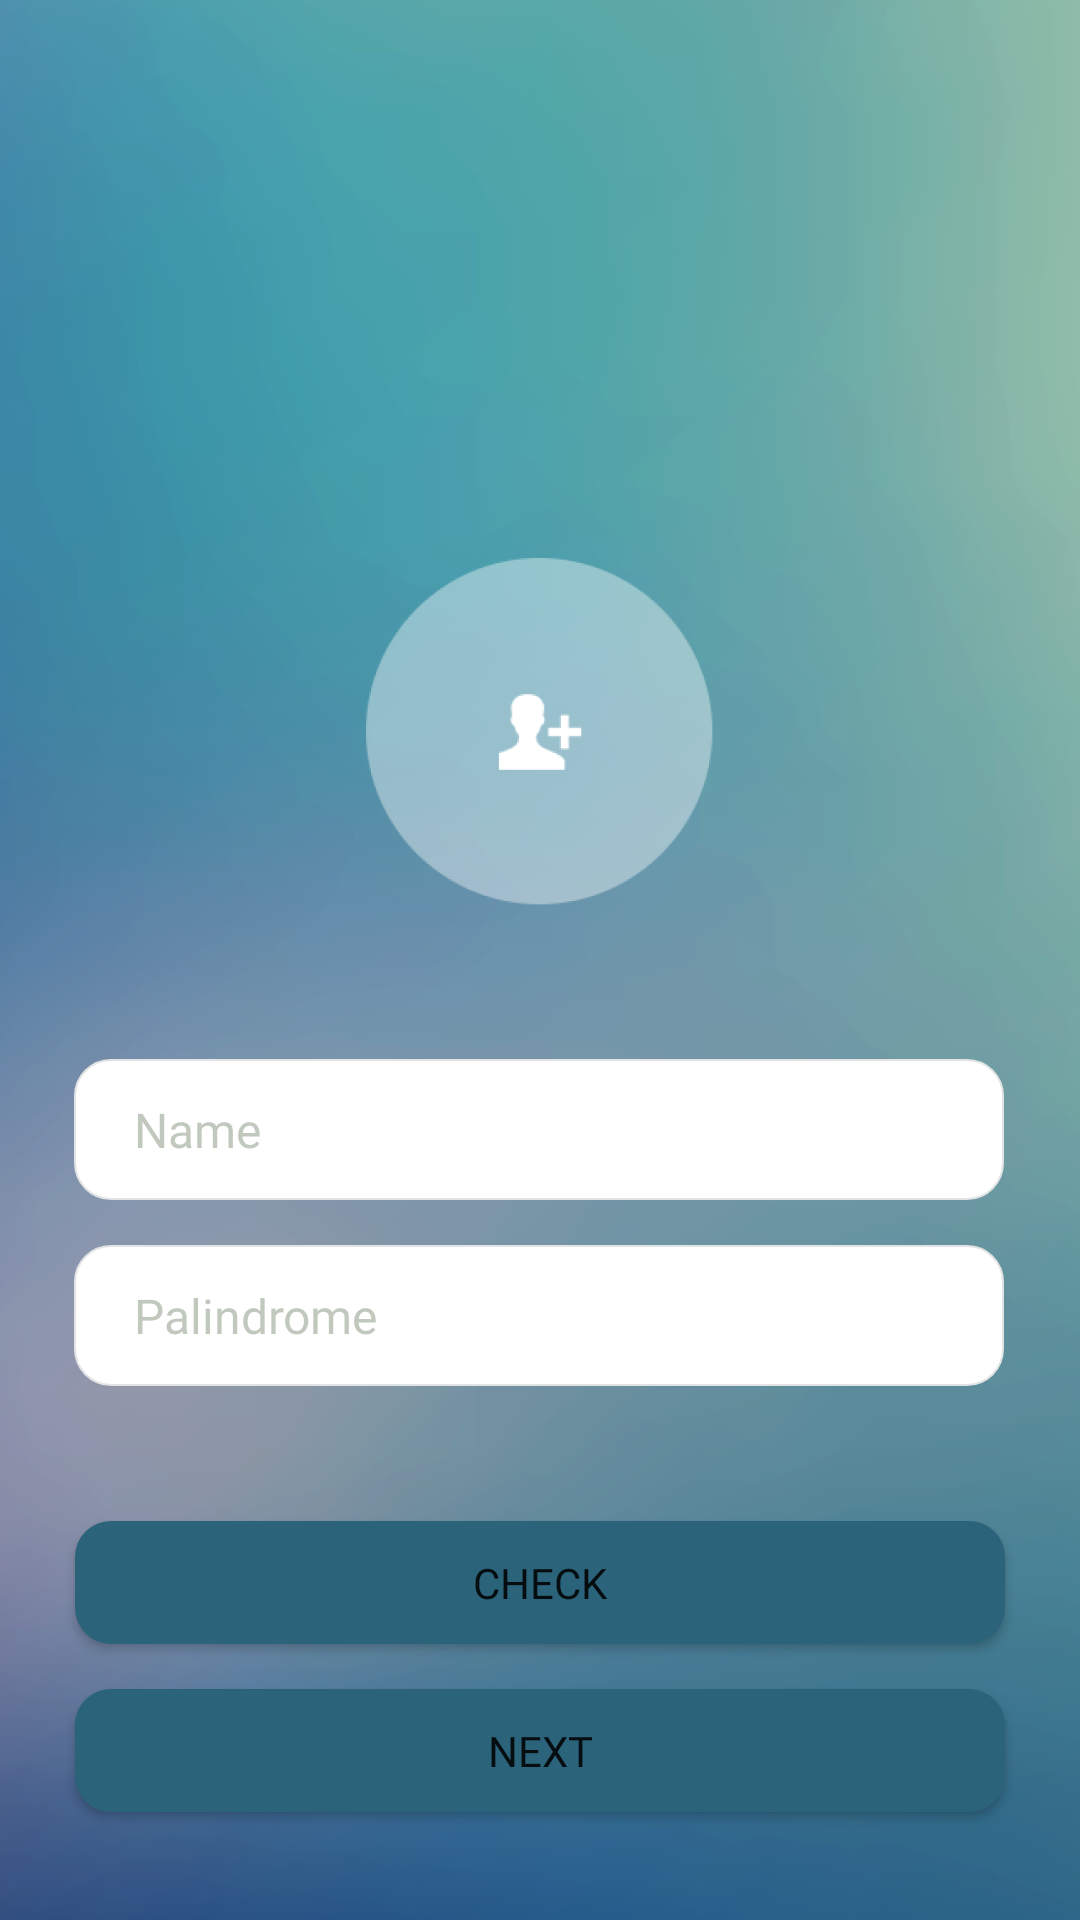

Icons on this 1080px×1920px Android screen, each with its box as (x1, y1, x2, y2):
Profile: (366, 558, 712, 904)
